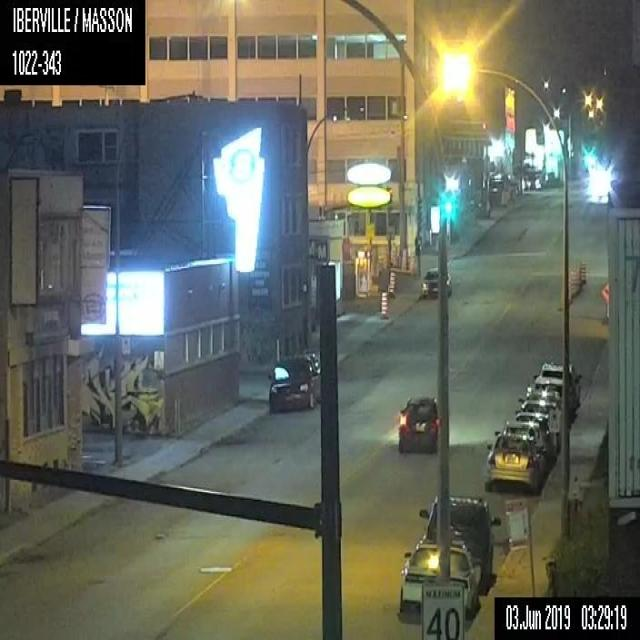construction: (378, 287, 389, 319), (599, 282, 608, 318), (387, 270, 397, 299), (569, 269, 577, 297), (400, 246, 407, 270), (580, 263, 587, 283), (410, 252, 415, 276)
vehicle: (417, 493, 500, 585), (397, 543, 482, 619), (484, 431, 546, 493), (266, 349, 319, 411), (397, 393, 438, 454), (534, 362, 581, 411), (493, 417, 548, 455), (512, 407, 556, 441), (516, 395, 556, 424), (420, 265, 452, 299), (527, 374, 569, 398), (586, 163, 610, 198)
